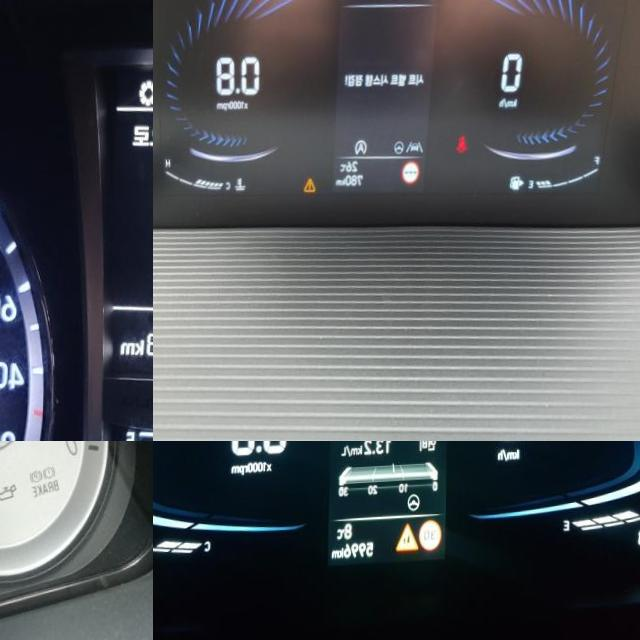Central Warning lamp: (305, 178, 319, 195)
LaneCenteringOff: (408, 143, 426, 158)
